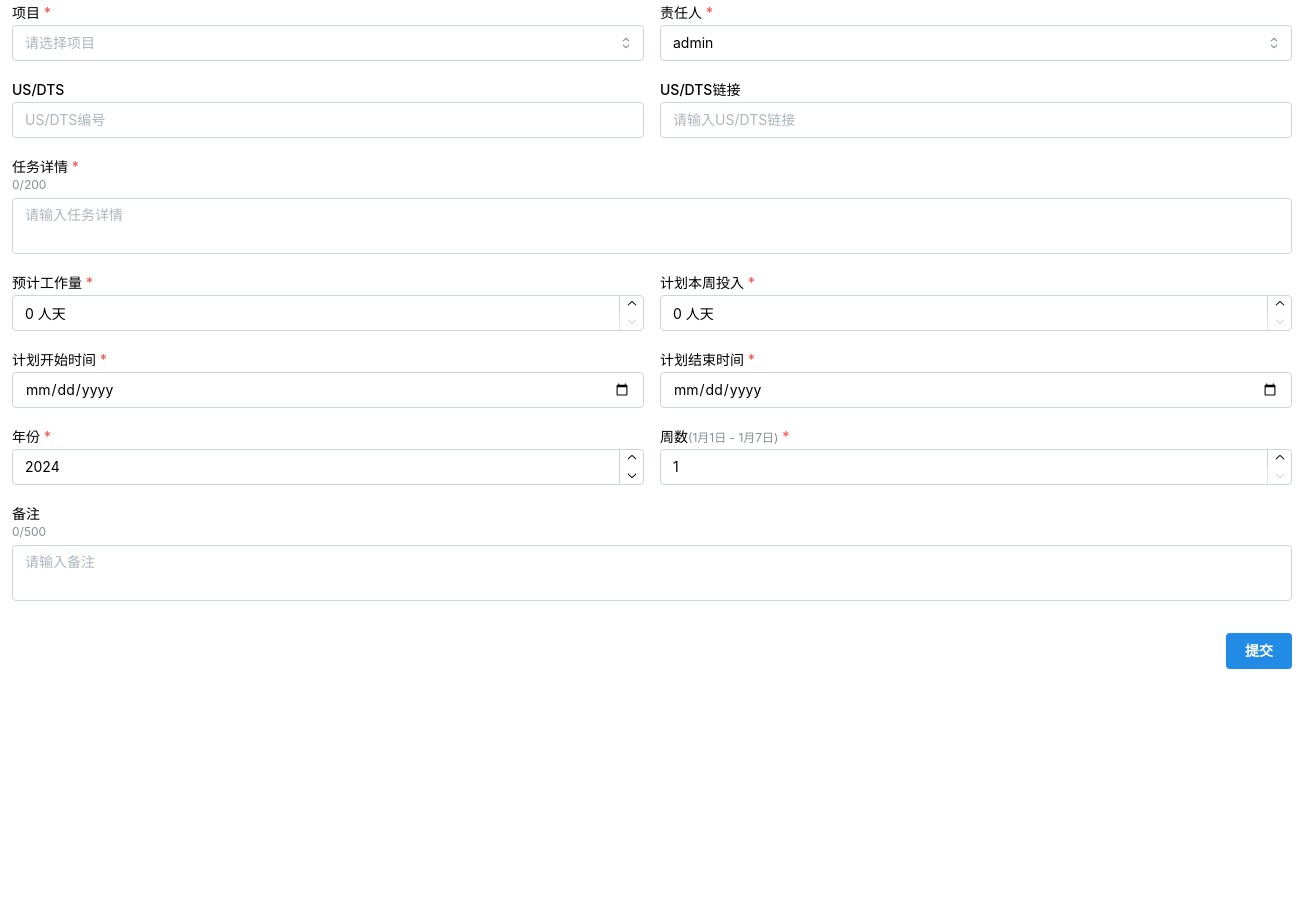
it: TaskForm 组件（新增模式） › US/DTS链接验证 › 输入无效URL时显示验证错误
The width and height of the screenshot is (1304, 900).
Step 1. Type "不是有效链接" into the field labelled "US/DTS链接" → (976, 120), box x1=660 y1=102 x2=1292 y2=138
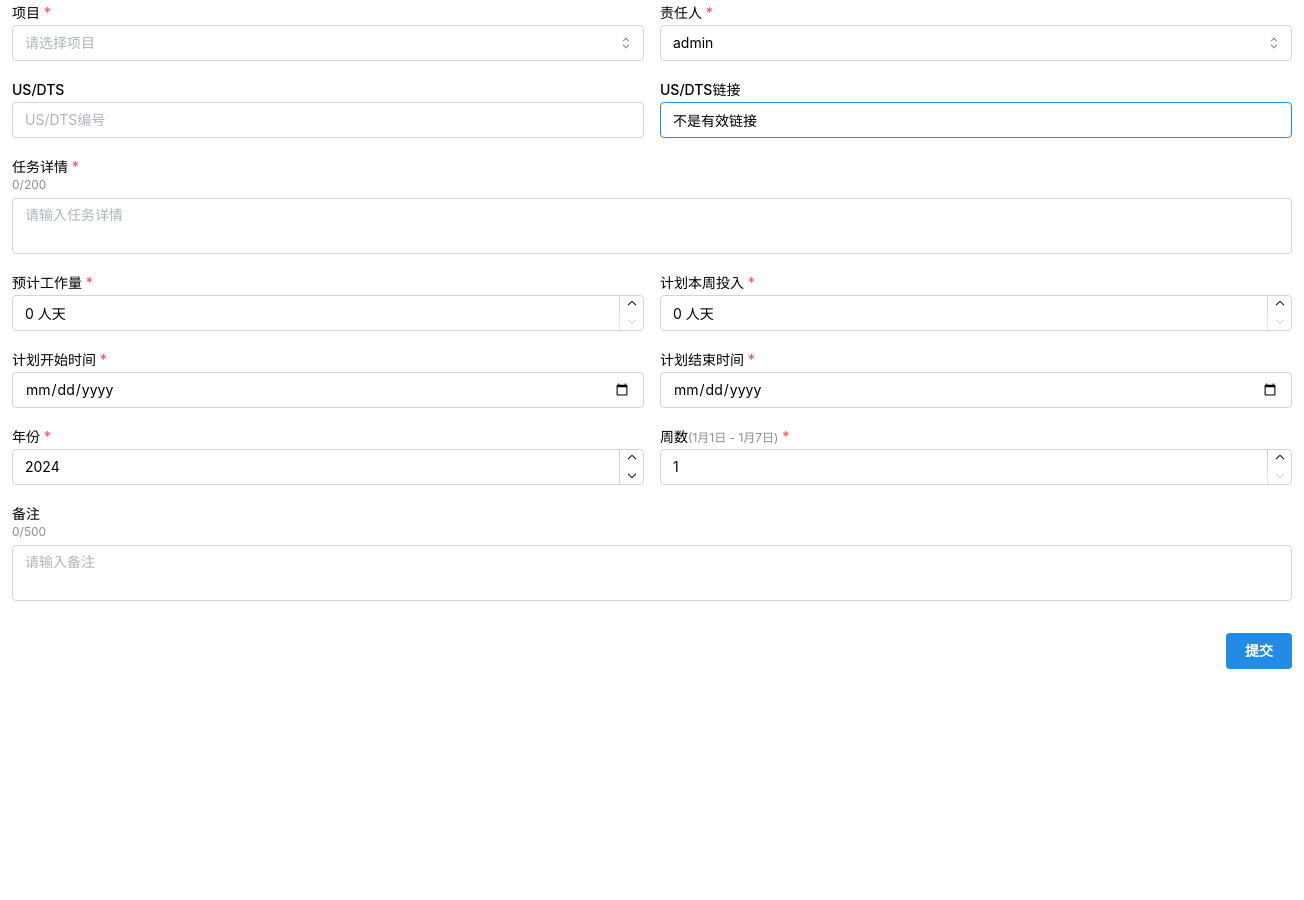
Step 2. Submit the form
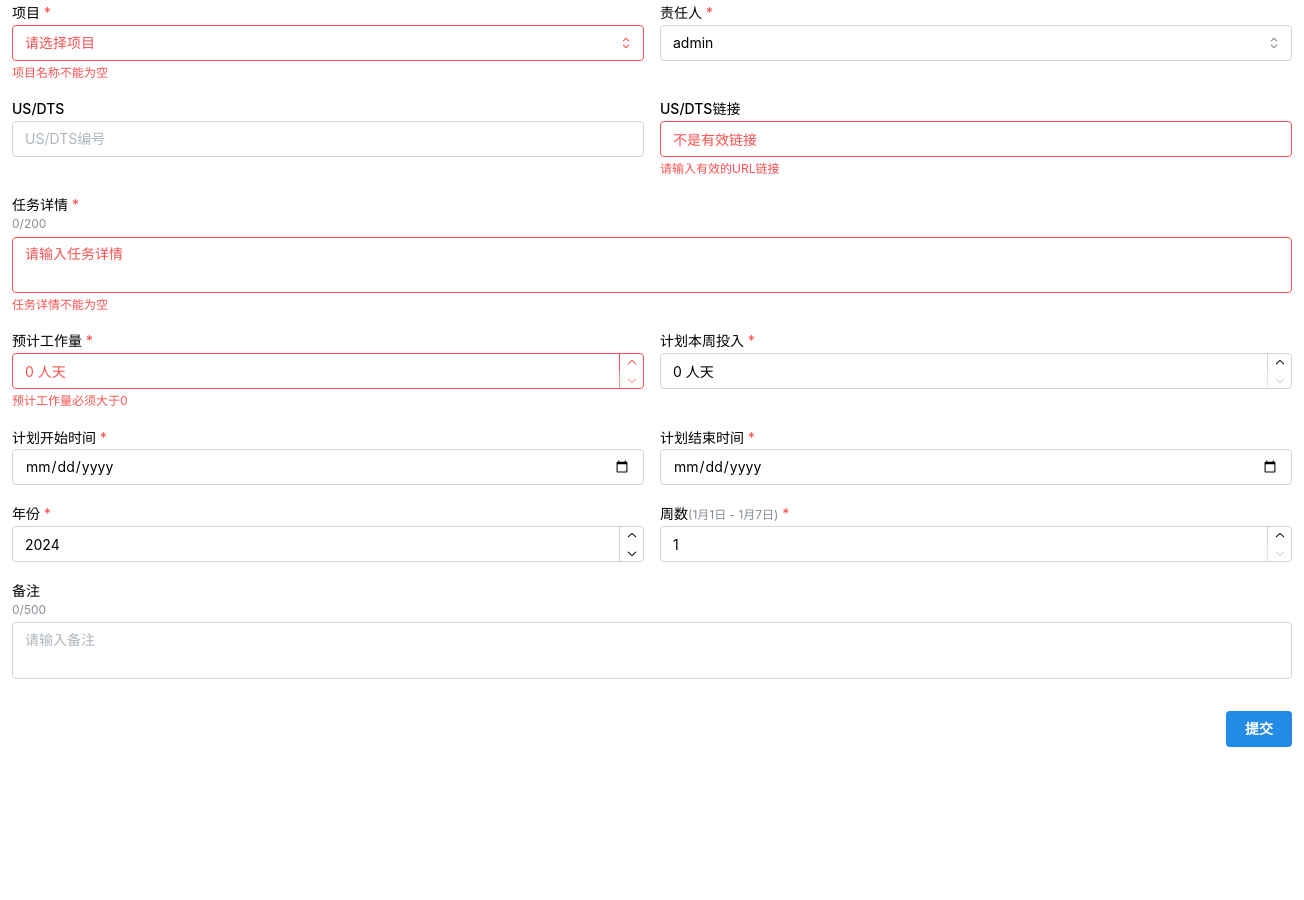
Now the text "请输入有效的URL链接" is shown, box x1=660 y1=161 x2=780 y2=176
